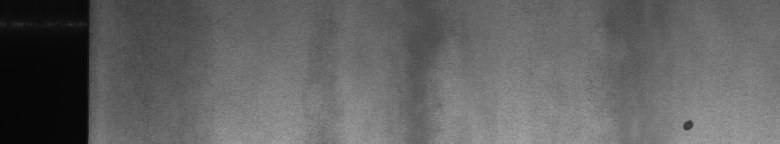fi: (676, 112, 699, 136)
